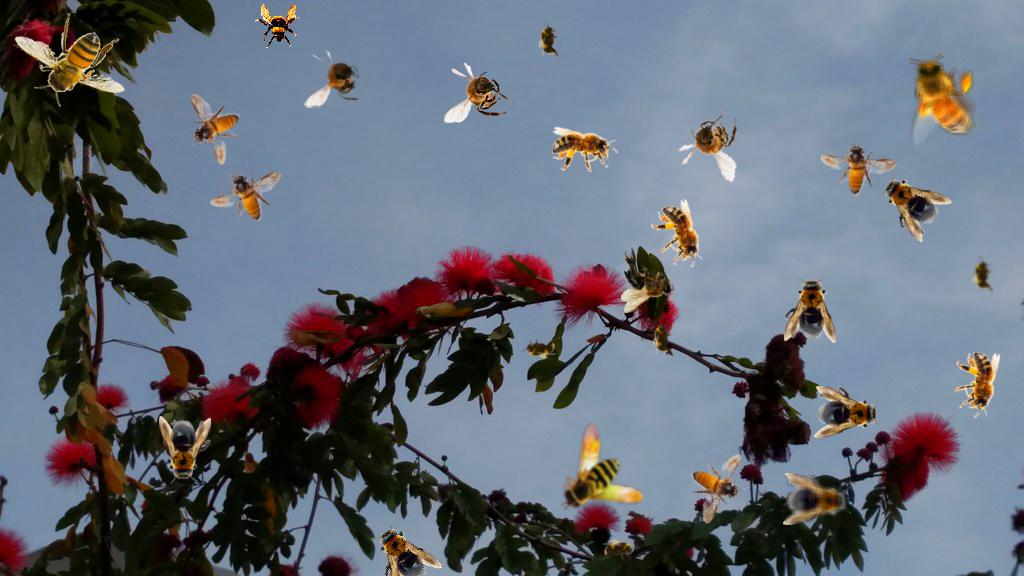Bee: (14, 13, 125, 107), (674, 441, 762, 526), (561, 422, 643, 510), (867, 162, 953, 244), (811, 128, 899, 207), (908, 54, 976, 147), (673, 101, 748, 183), (644, 196, 716, 277), (359, 513, 443, 576), (304, 47, 374, 108), (444, 62, 514, 123), (210, 171, 281, 221), (190, 94, 240, 165), (159, 416, 211, 484), (783, 473, 851, 525), (784, 275, 836, 343), (814, 386, 882, 438), (621, 251, 674, 313), (552, 127, 618, 172), (955, 352, 1000, 418), (253, 1, 301, 49), (972, 255, 994, 295), (652, 318, 674, 358), (538, 20, 560, 60), (599, 539, 639, 561), (520, 337, 560, 359)
